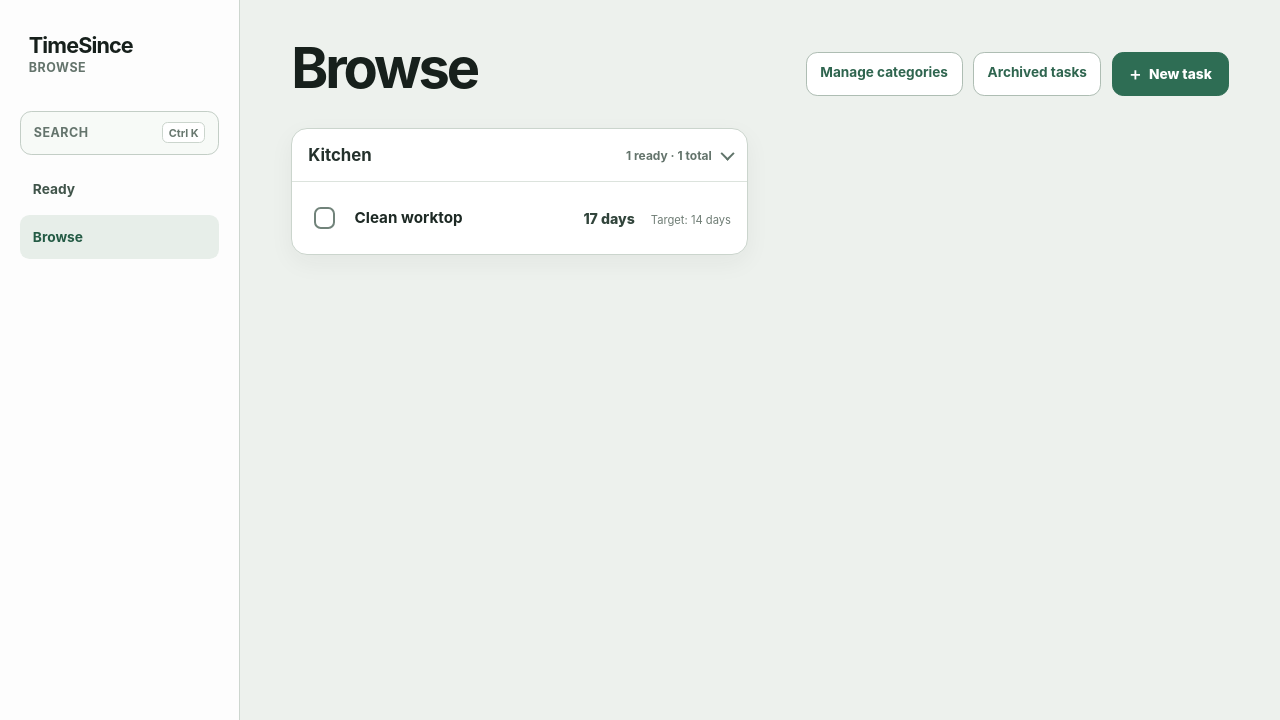
Test case: Browse view › completes and undoes a task without removing it from its category
This screenshot has width=1280, height=720.
Click the button named "Complete Clean worktop": (325, 218) [303,196,347,240]
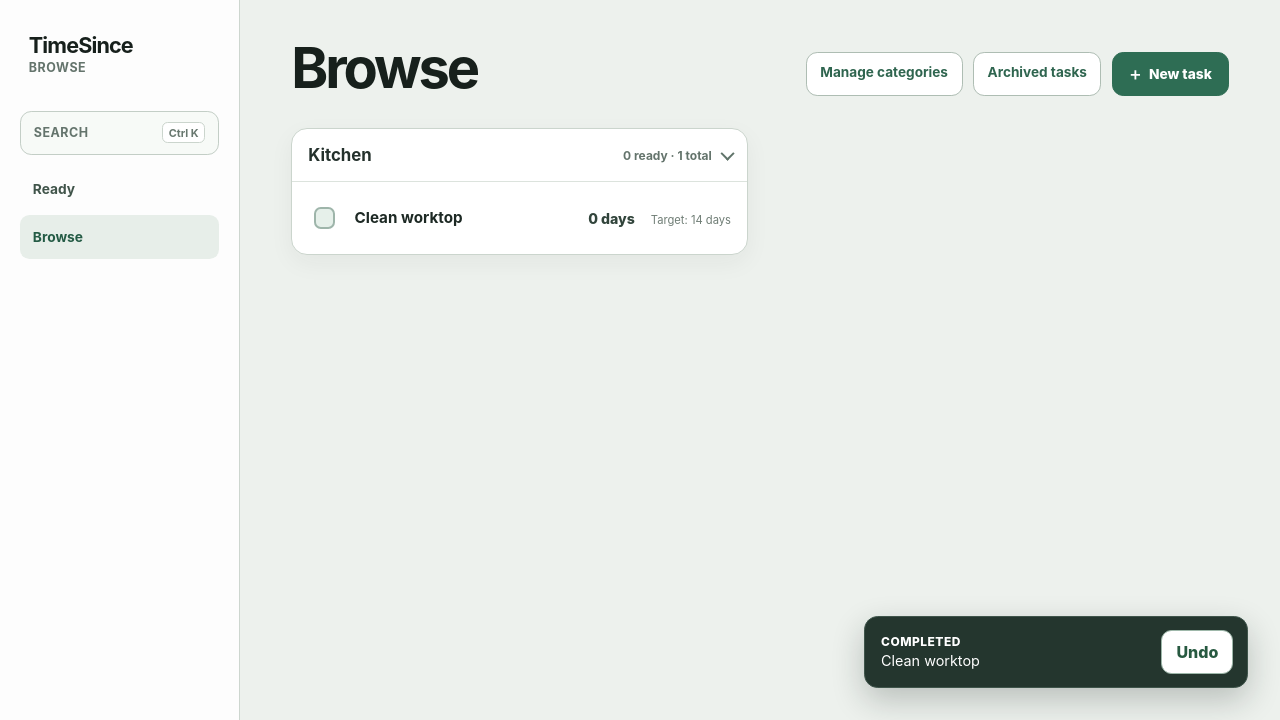
Expected: the 1st text "Clean worktop" is shown, [355,208,463,227]
Result: the element labelled "0 days" is shown at [588,210,635,226]
Click the button with aria-label "Undo completion of Clean worktop": (1197, 652) [1161,630,1233,674]
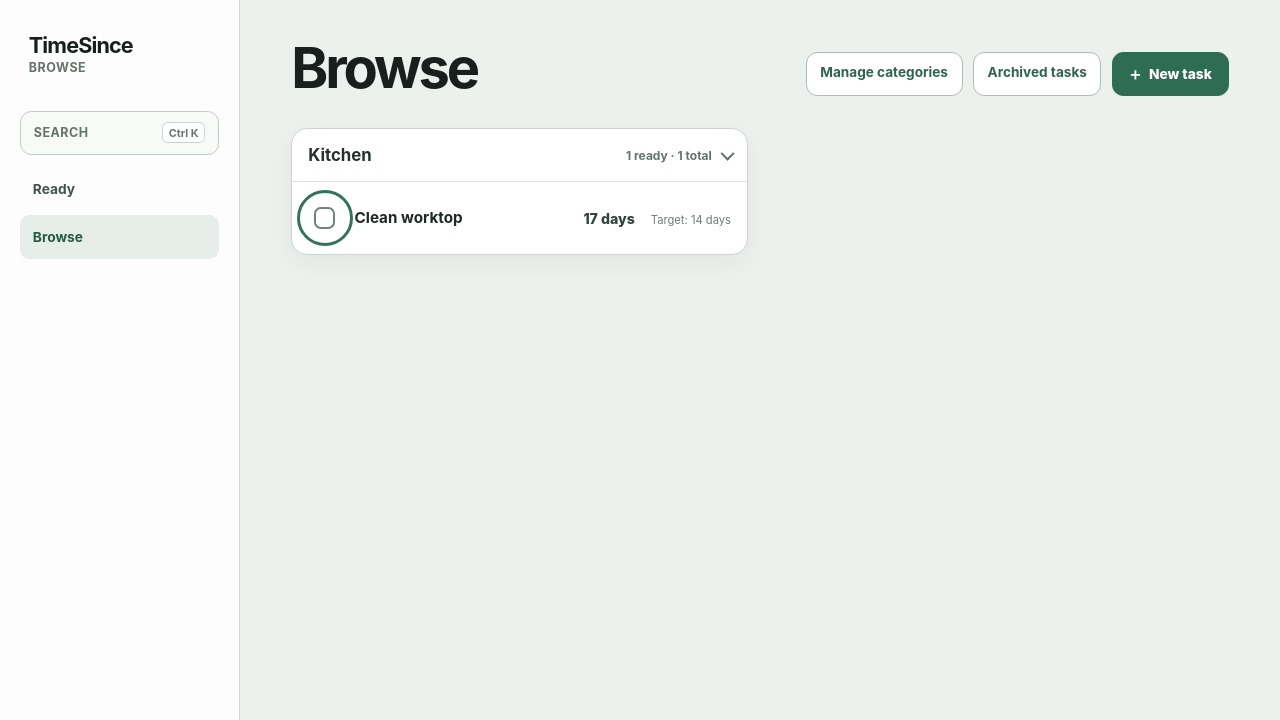
Expected: the text "Clean worktop" is shown, [355,208,463,227]
Result: the element labelled "17 days" is shown at [583,210,635,226]
